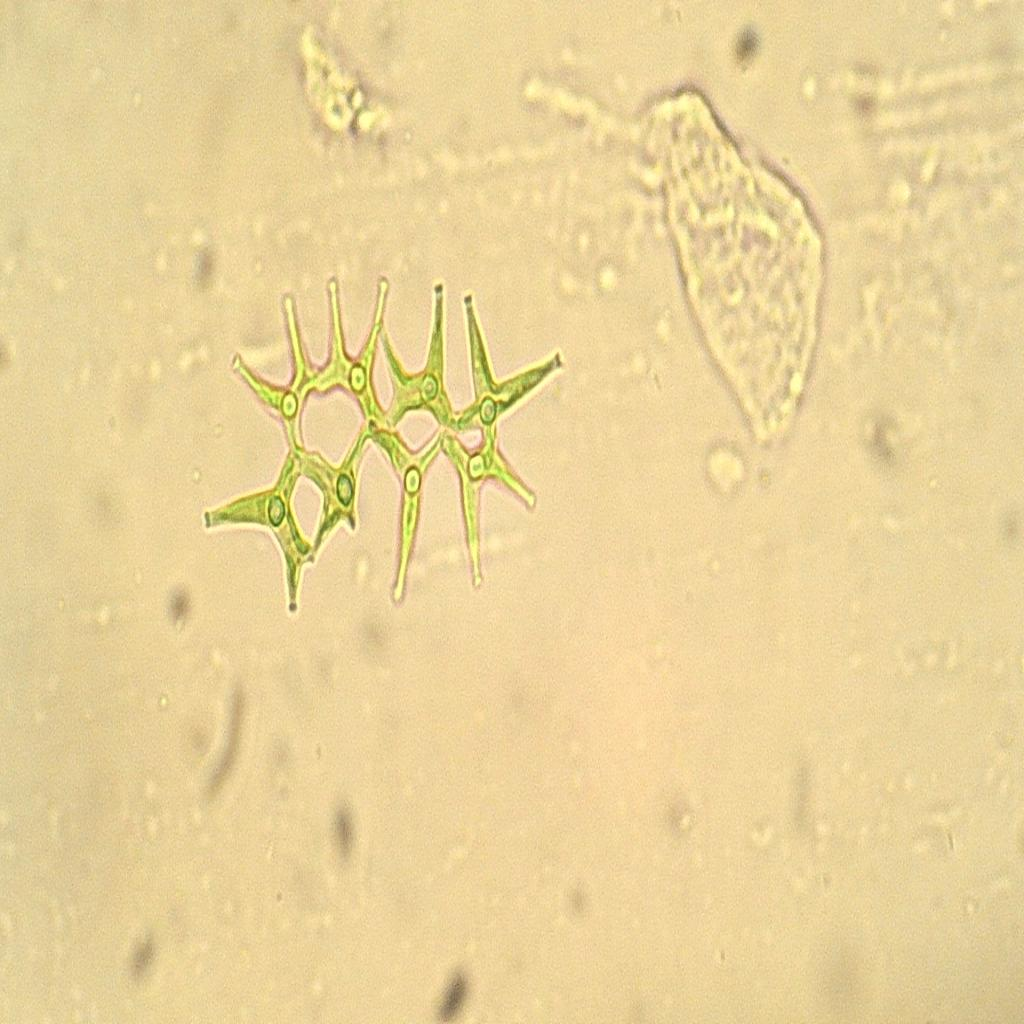Pediastrum_CFI: (178, 241, 573, 623)
